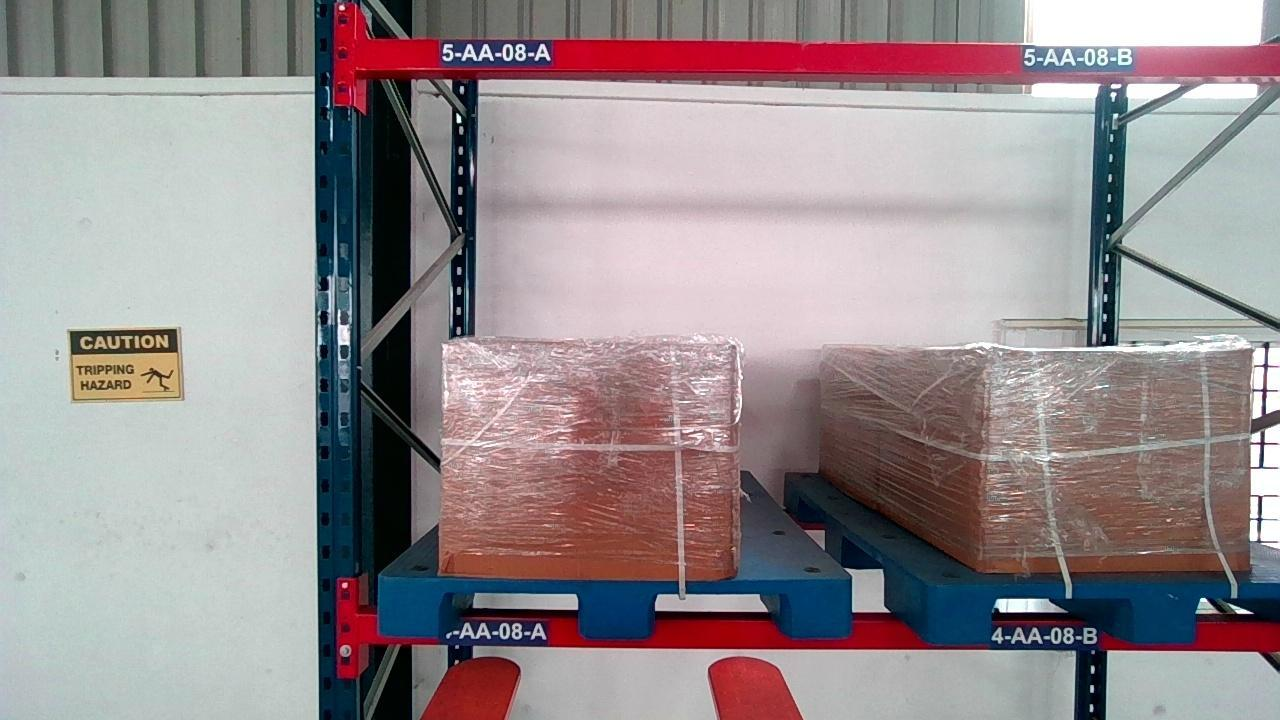h_rack: (356, 610, 1279, 651), (366, 40, 1279, 73)
small_pallet: (380, 579, 851, 640), (932, 589, 1277, 646)
